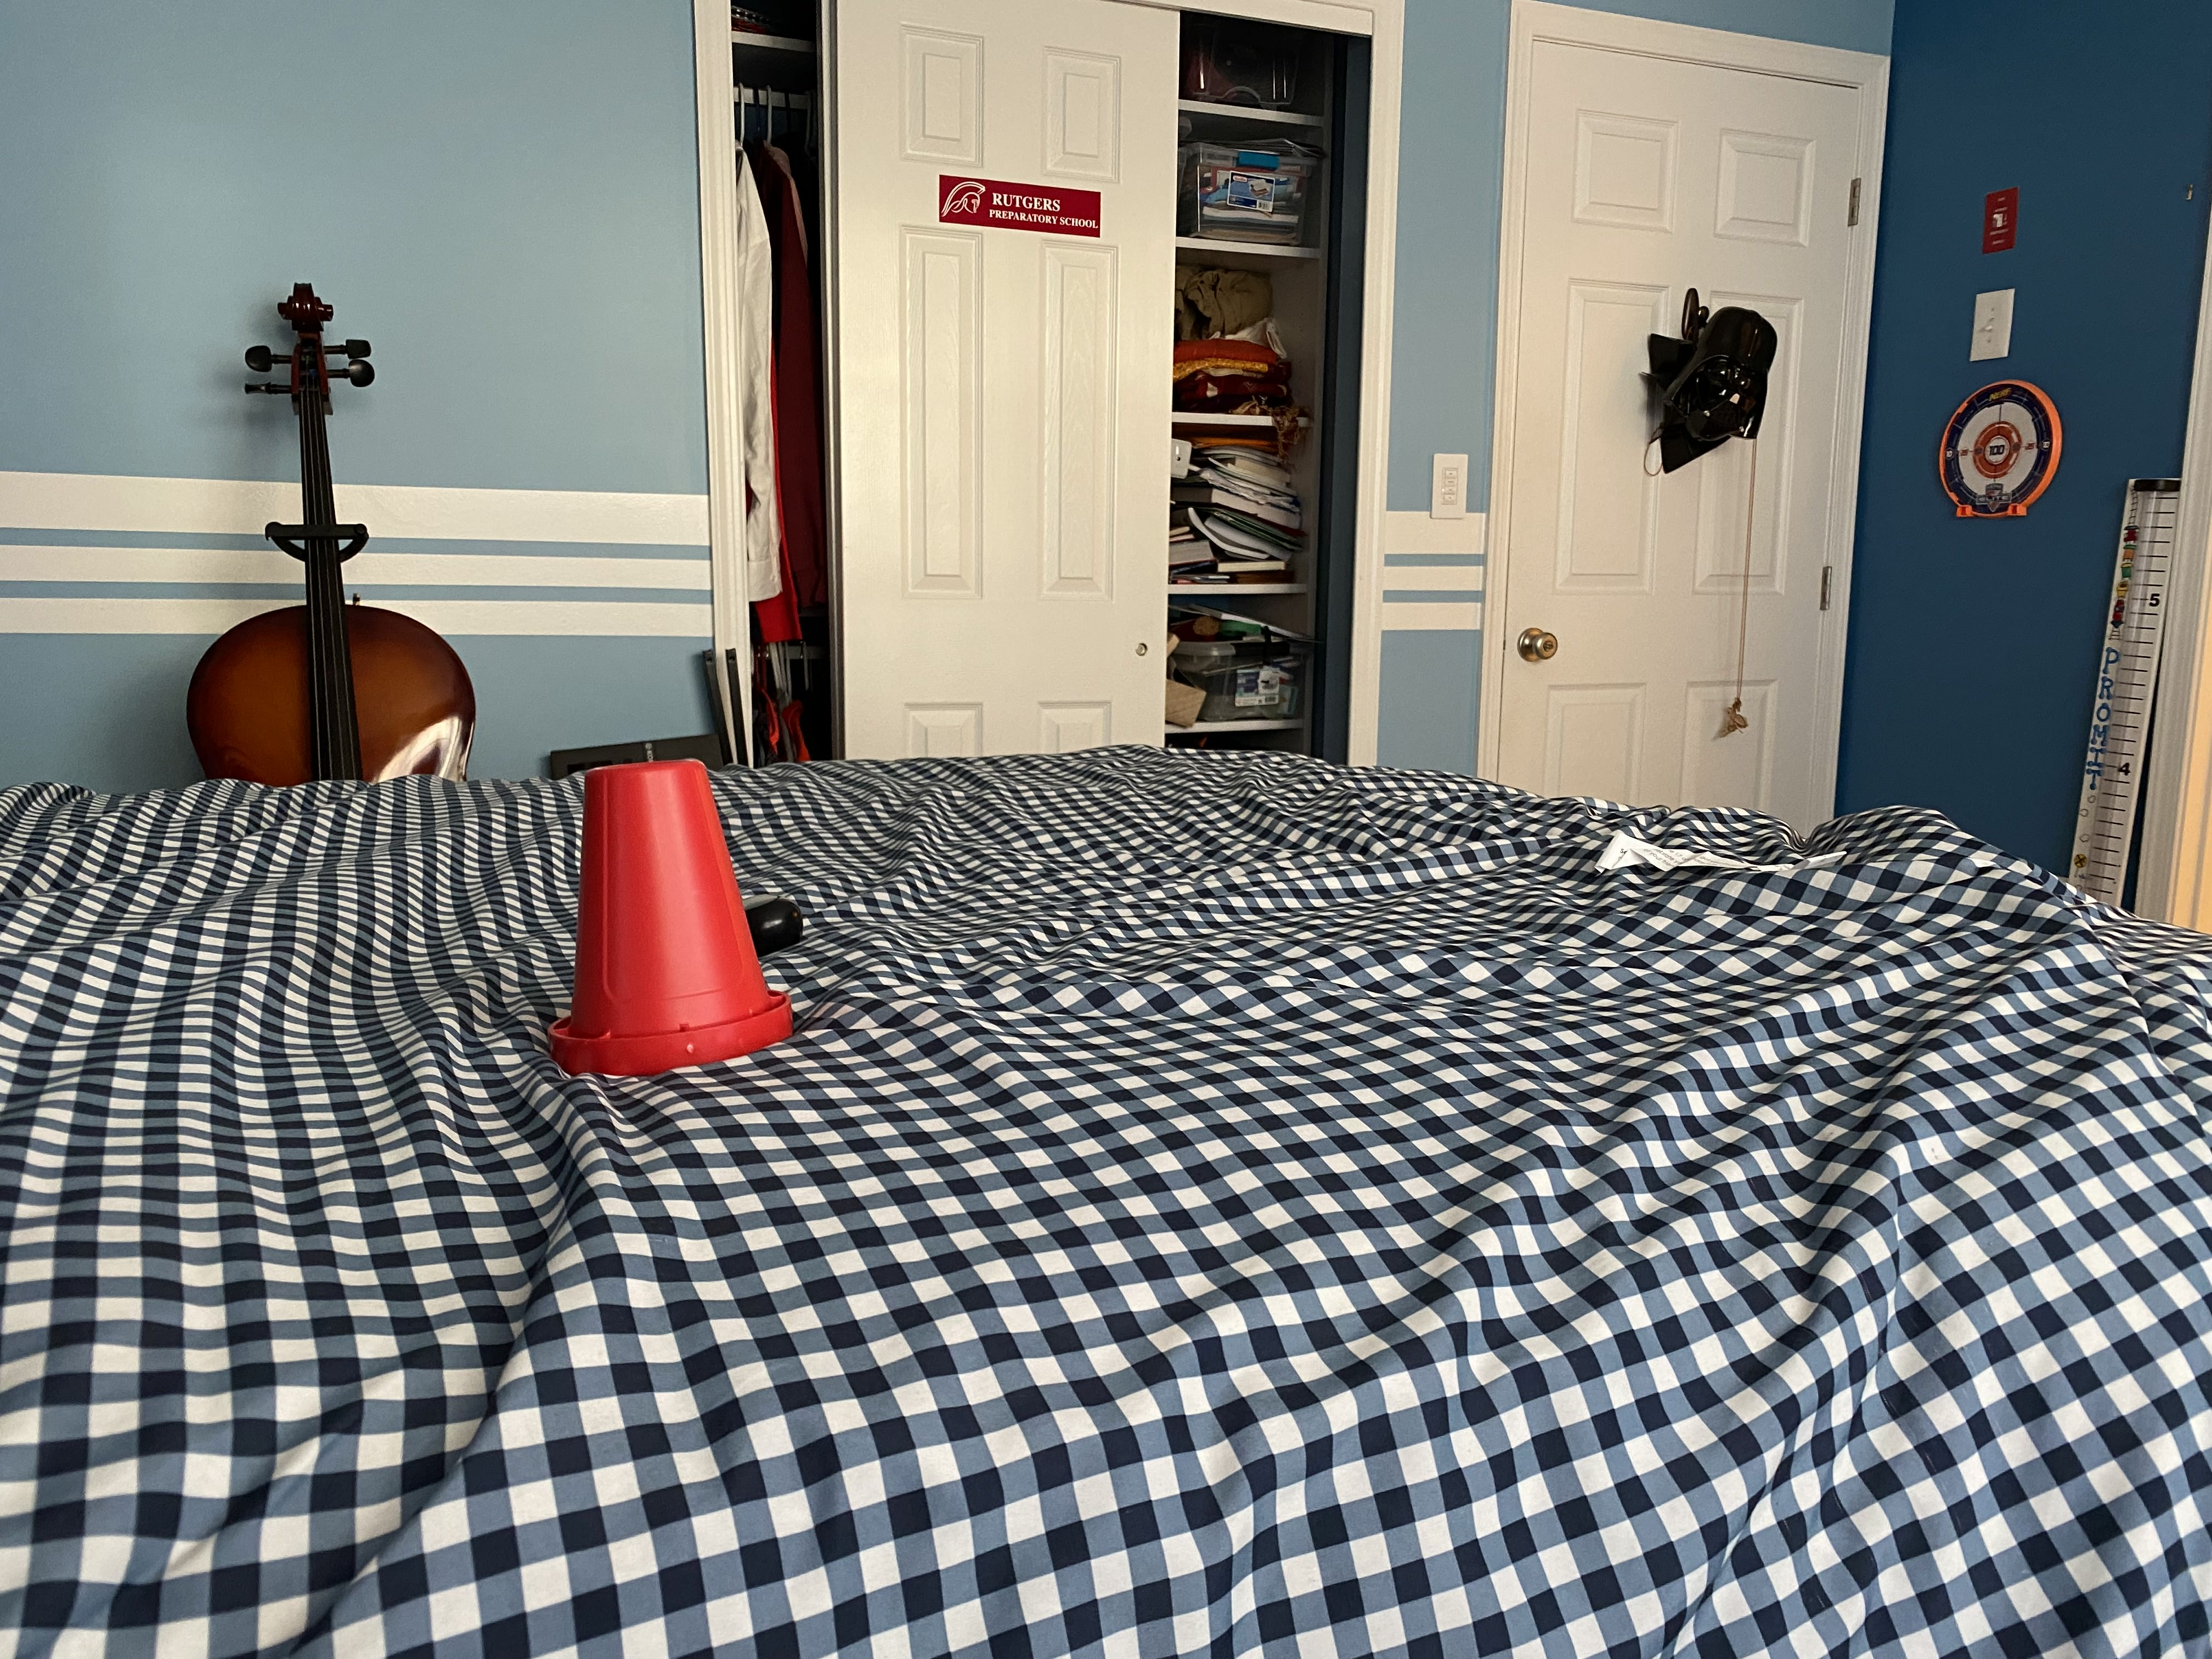redCone: (540, 749, 799, 1080)
